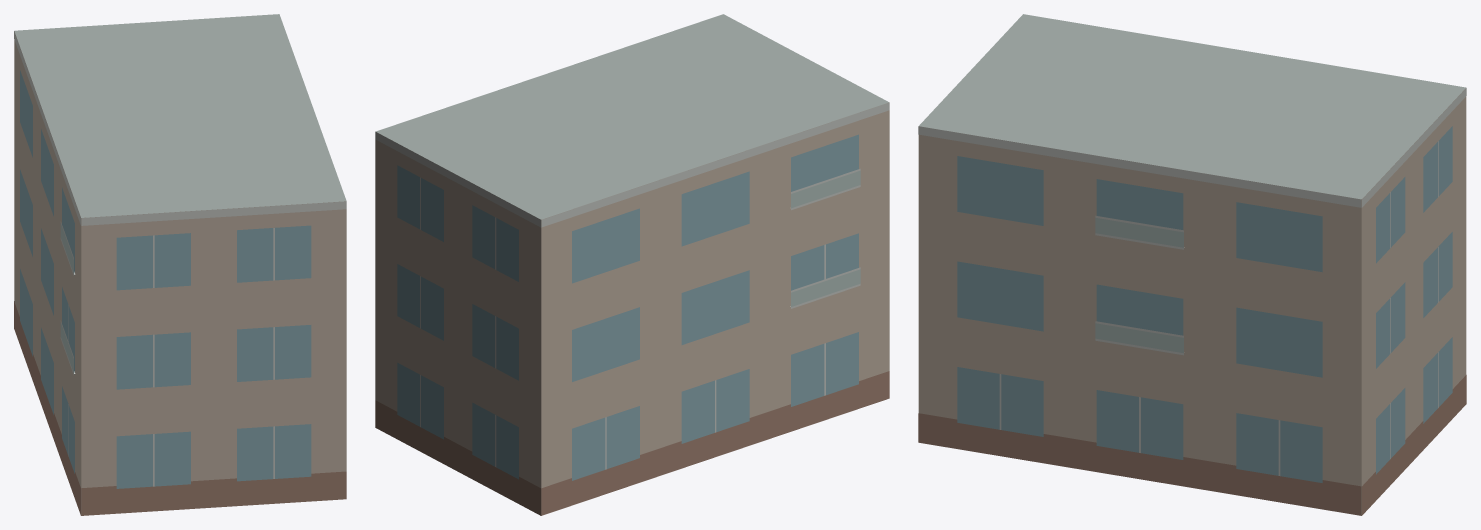
Rendered from survey-upis-33019314.glb.
3 views of the same model, side by side, from view 1: azimuth 30°, elevation 25°; view 2: azimuth 150°, elevation 25°; view 3: azimuth 270°, elevation 25° (orthographic). The views are drawn at different scales.
Parts seen in each view (by area): view 1: survey-upis-33019314.tmp; view 2: survey-upis-33019314.tmp; view 3: survey-upis-33019314.tmp.
Part boxes in pixels (box(x1,y1,x2,y2)): survey-upis-33019314.tmp: box(14, 14, 346, 515); survey-upis-33019314.tmp: box(375, 14, 889, 515); survey-upis-33019314.tmp: box(918, 14, 1466, 515).
Size of the model in its own units: 11.51 by 9.15 by 14.37.
